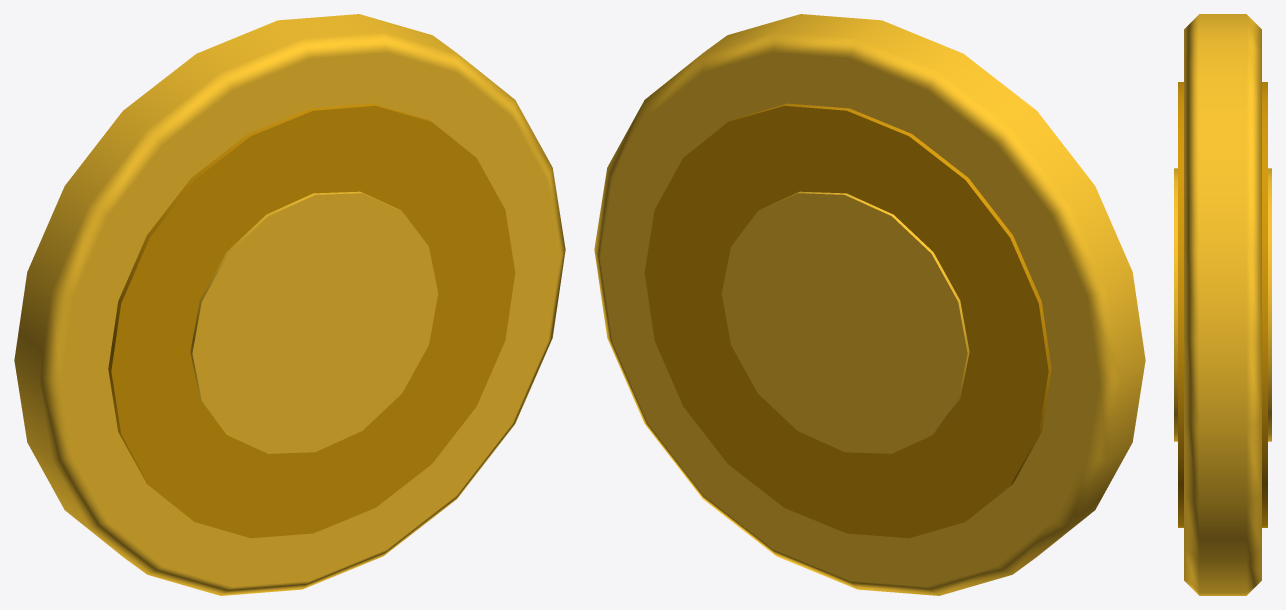
Rendered from fluss_teil.glb.
3 renders of one model, left to right at view 1: azimuth 30°, elevation 25°; view 2: azimuth 150°, elevation 25°; view 3: azimuth 270°, elevation 25°, orthographic. The views are drawn at different scales.
Parts seen in each view (by area): view 1: fluss_teil; view 2: fluss_teil; view 3: fluss_teil.
Boxes of the visible parts, <box> form: fluss_teil: <box>14,14,565,595</box>; fluss_teil: <box>594,14,1145,595</box>; fluss_teil: <box>1174,14,1271,595</box>.
Bounding box in the file's own units: 0.3 × 0.3 × 0.05.
